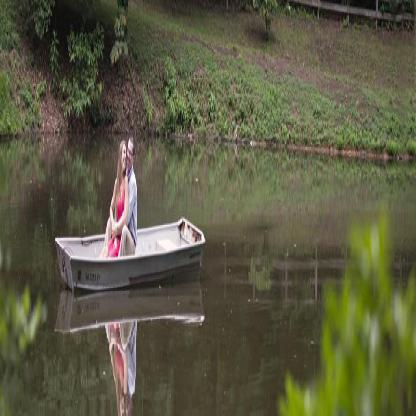face: (128, 139, 133, 169), (122, 145, 127, 170)
